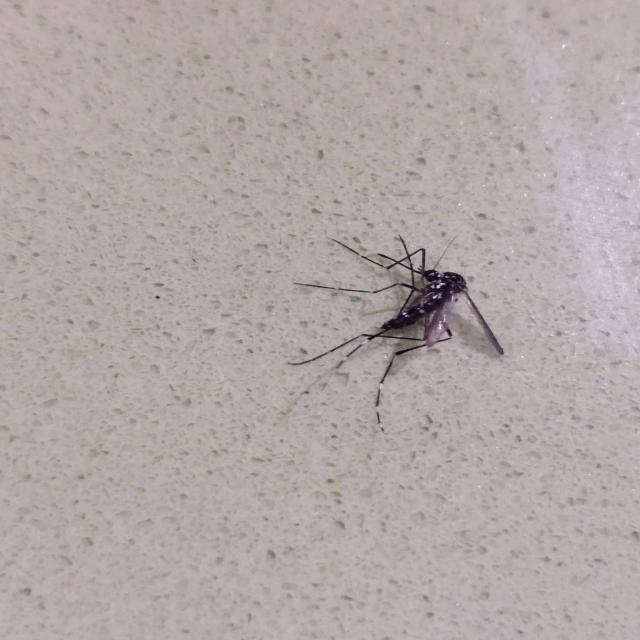albopictus: (278, 230, 513, 433)
